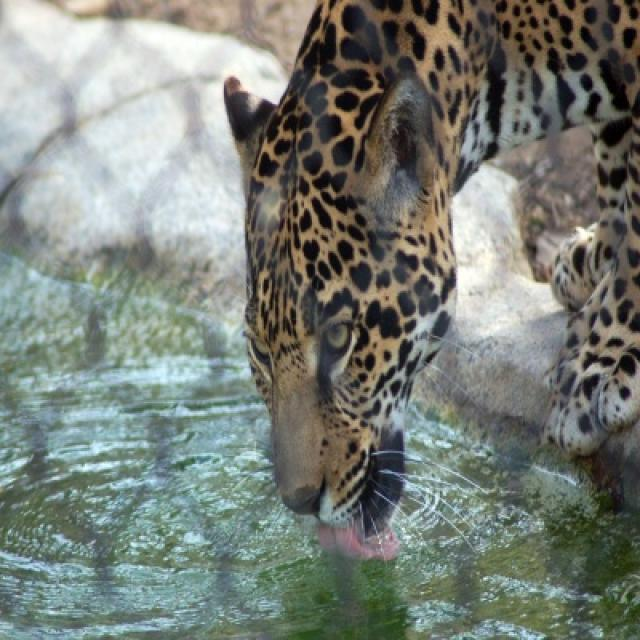Jaguar: (222, 0, 638, 563)
